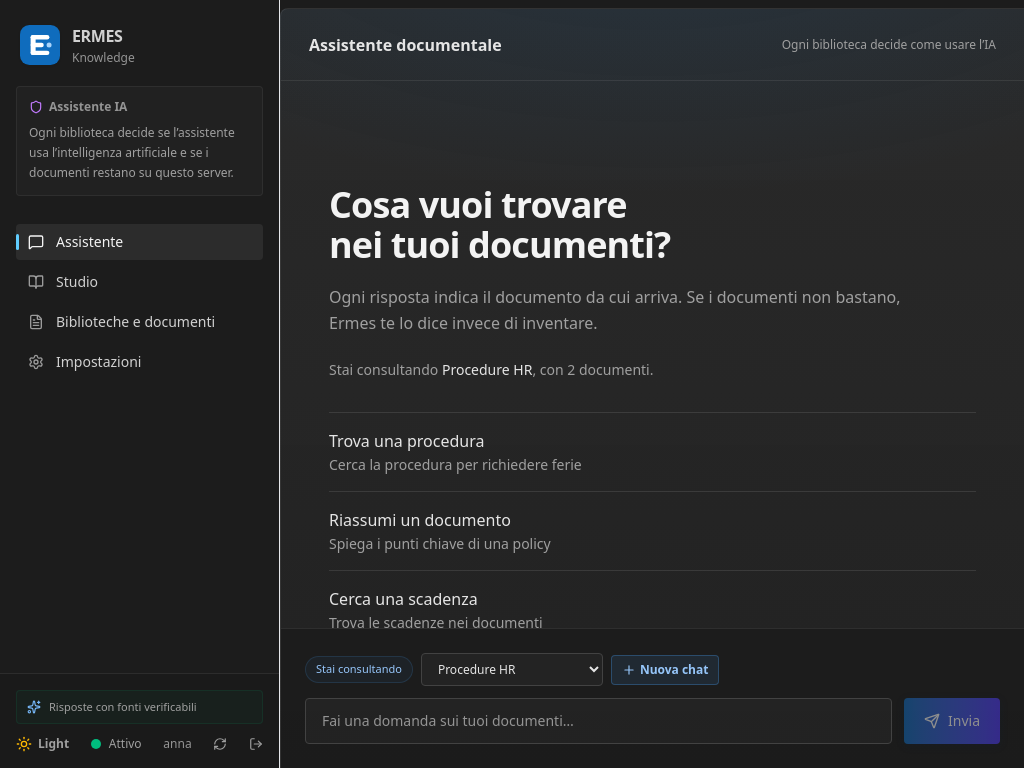
Scenario: App — logout and SSO › Esci ends the server session and returns to the login form
Expected: the field with placeholder "Fai una domanda sui tuoi documenti…" is shown, [305,698,892,744]
Expected: the text "Procedure HR" is shown, [442,360,532,379]
Click the button named "esci".
click(256, 744)  # box [249,737,263,751]
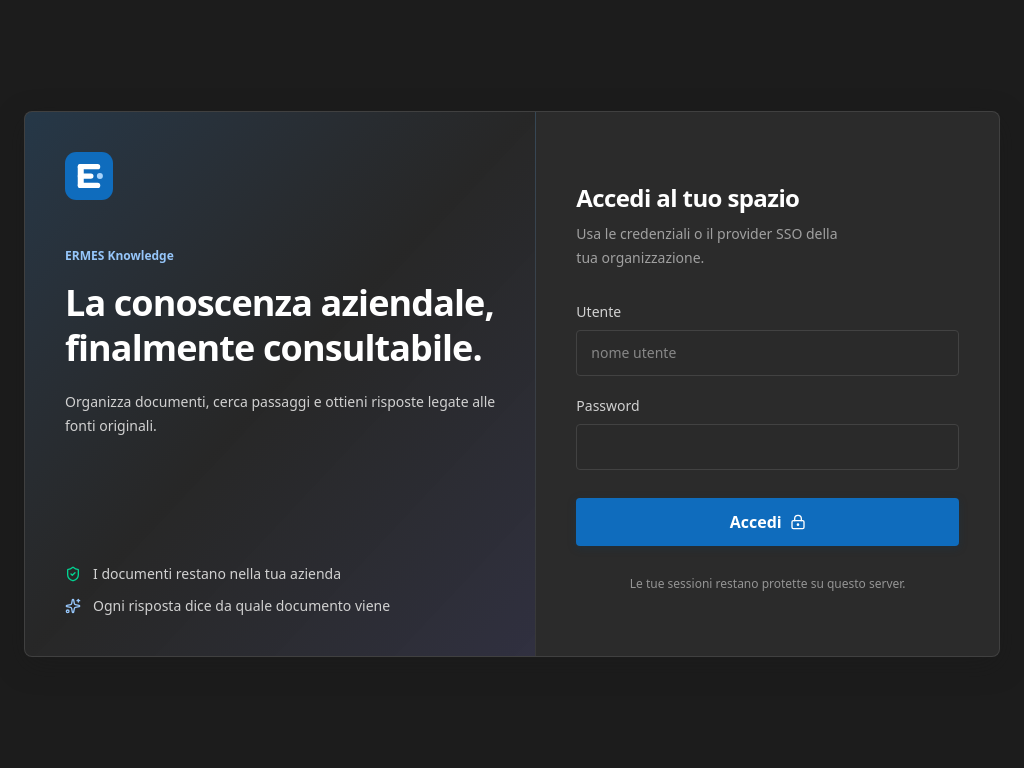
Now the field with placeholder "nome utente" is shown, box [576,330,959,376]
